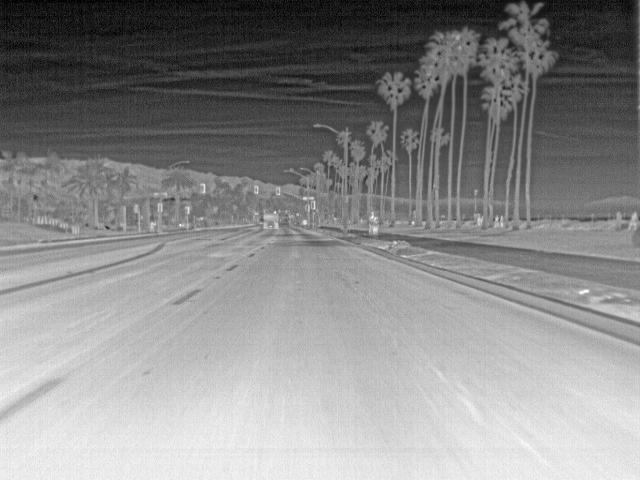car: (260, 211, 280, 230)
person: (368, 212, 379, 234)
